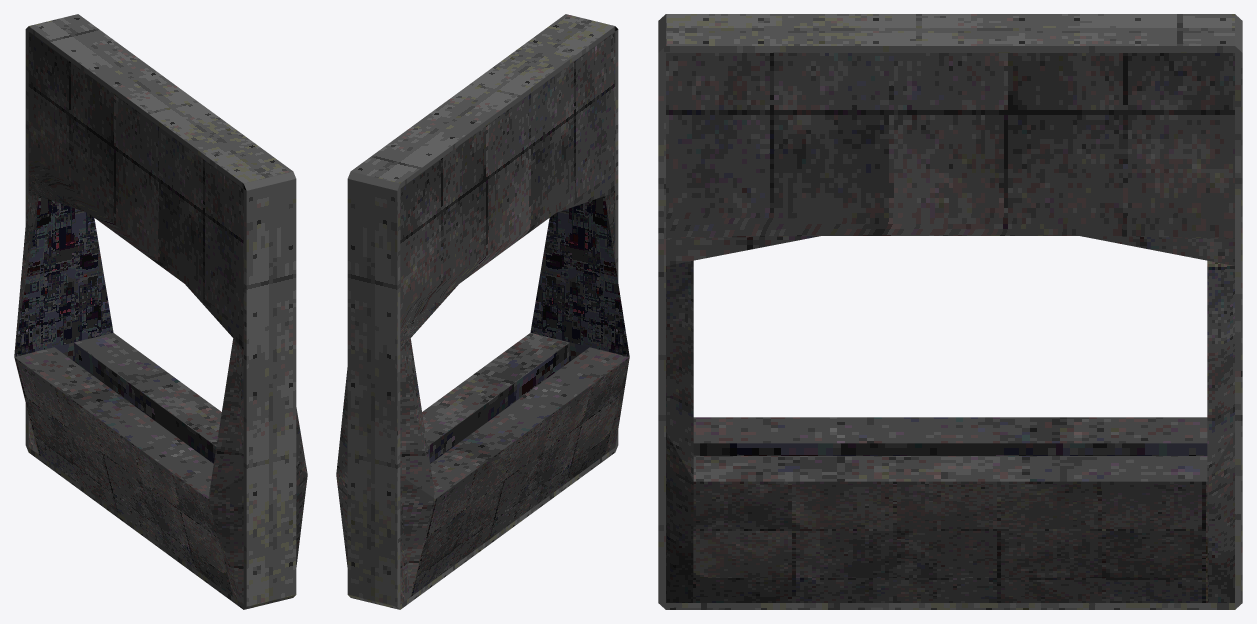
The model's file is Tech_Frame_door-col.glb.
3 renders of one model, left to right at view 1: azimuth 30°, elevation 25°; view 2: azimuth 150°, elevation 25°; view 3: azimuth 270°, elevation 25°, orthographic. The views are drawn at different scales.
Visible parts, largest first — view 1: Tech_Frame_door-col; view 2: Tech_Frame_door-col; view 3: Tech_Frame_door-col.
Boxes of the visible parts, left/top/right/bottom form: Tech_Frame_door-col: left=14, top=14, right=307, bottom=609; Tech_Frame_door-col: left=336, top=14, right=629, bottom=609; Tech_Frame_door-col: left=658, top=14, right=1242, bottom=609.
Bounding box in the file's own units: 2 × 8.2 × 7.7.
1 material, 1 textured.
